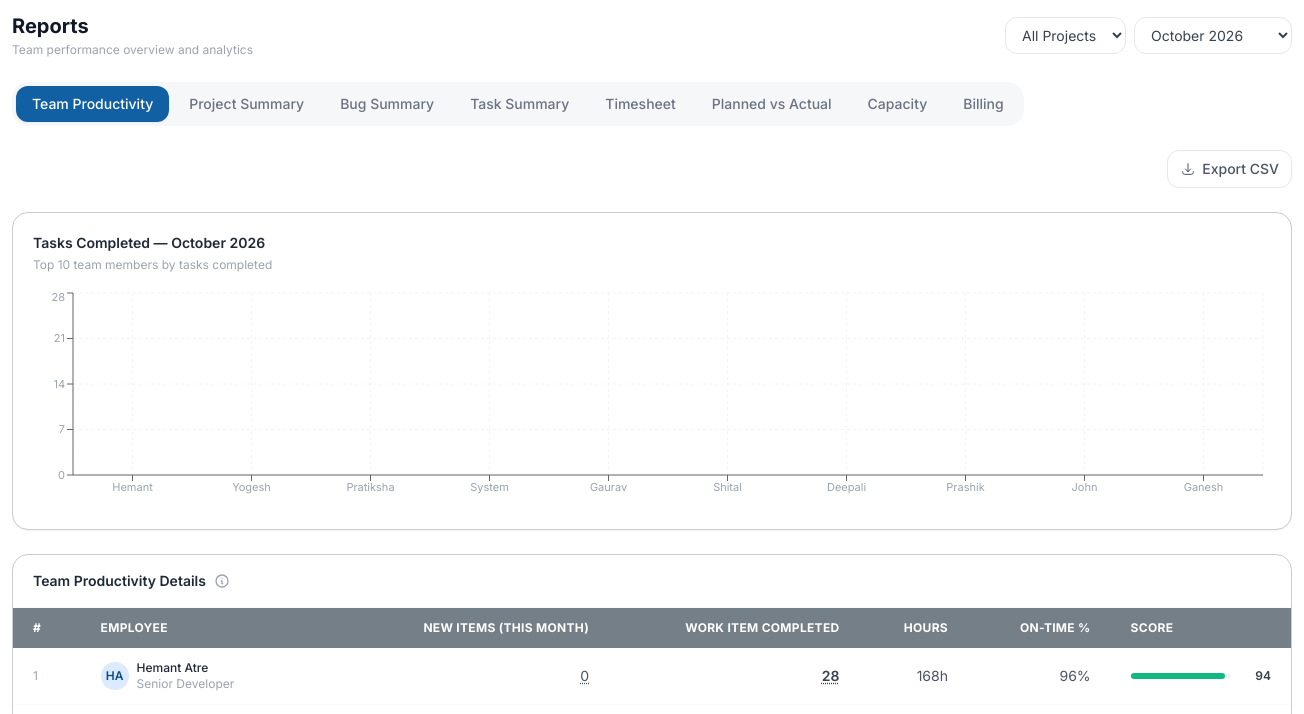
Scenario: ReportsPage — Task Allocation & Timesheet tabs › UTC-F021-FE-003: clicking Timesheet tab shows timesheet content
Click the button "Timesheet" at (641, 104), box [589,86,692,122]
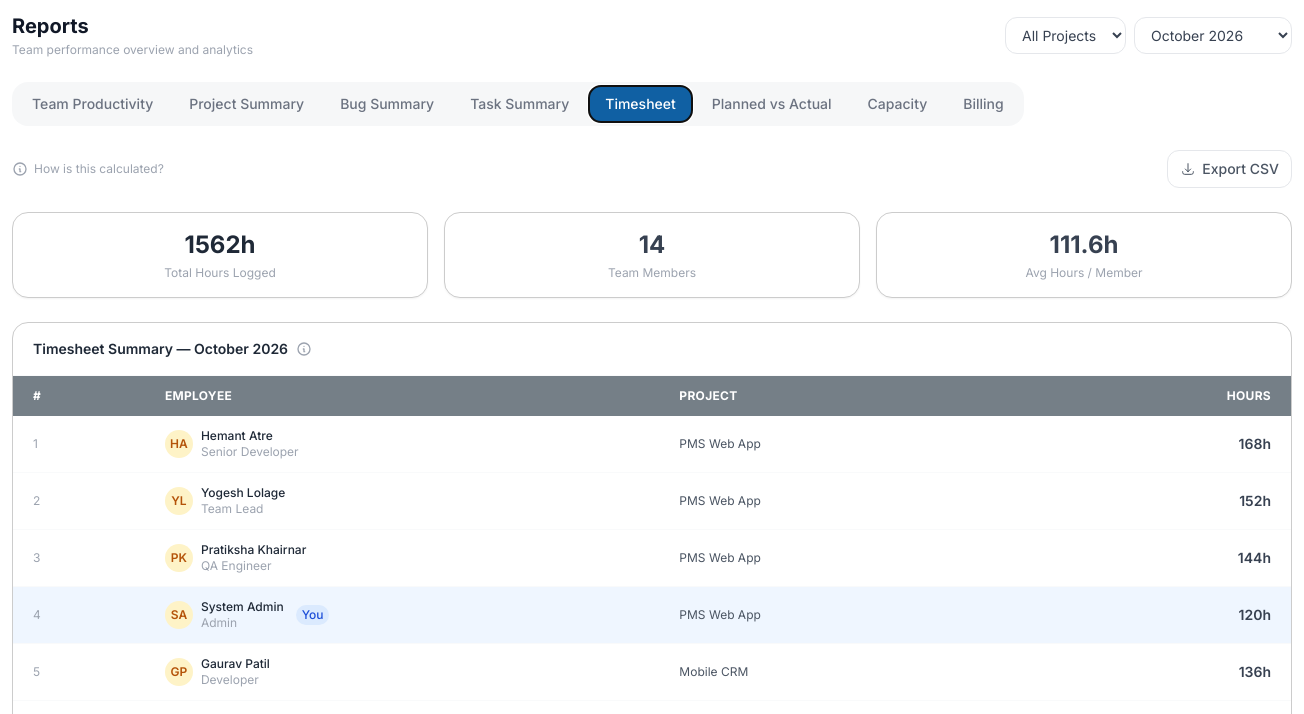
Expected: the heading "Timesheet Summary — October 2026" is shown, [33,339,288,359]
